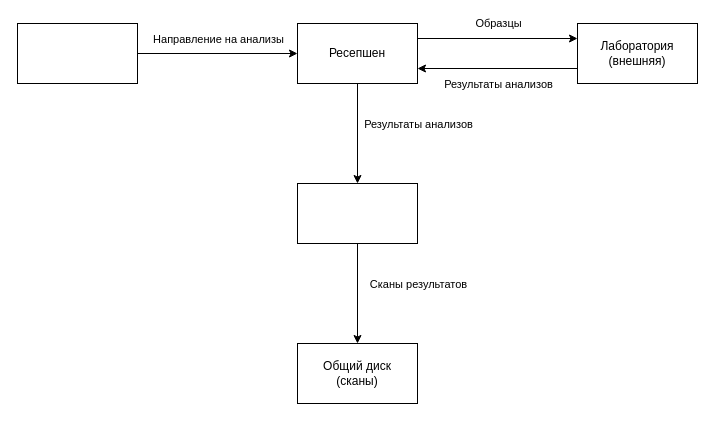
Some shapes in this 715 by 421 pixel diagram are drawn without their labels. The shapes that lost their labels are listed below. From the top down, each one's box as (x1, y1, x2, y2) in pixels, then its label:
(16, 22, 138, 84): Медицинский специалист
(296, 182, 418, 244): Excel-файл учета анализов
